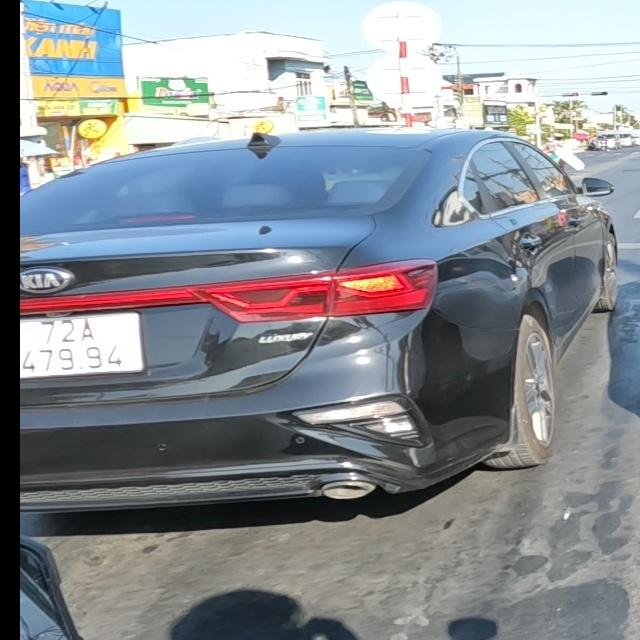license-plate: (20, 313, 142, 377)
